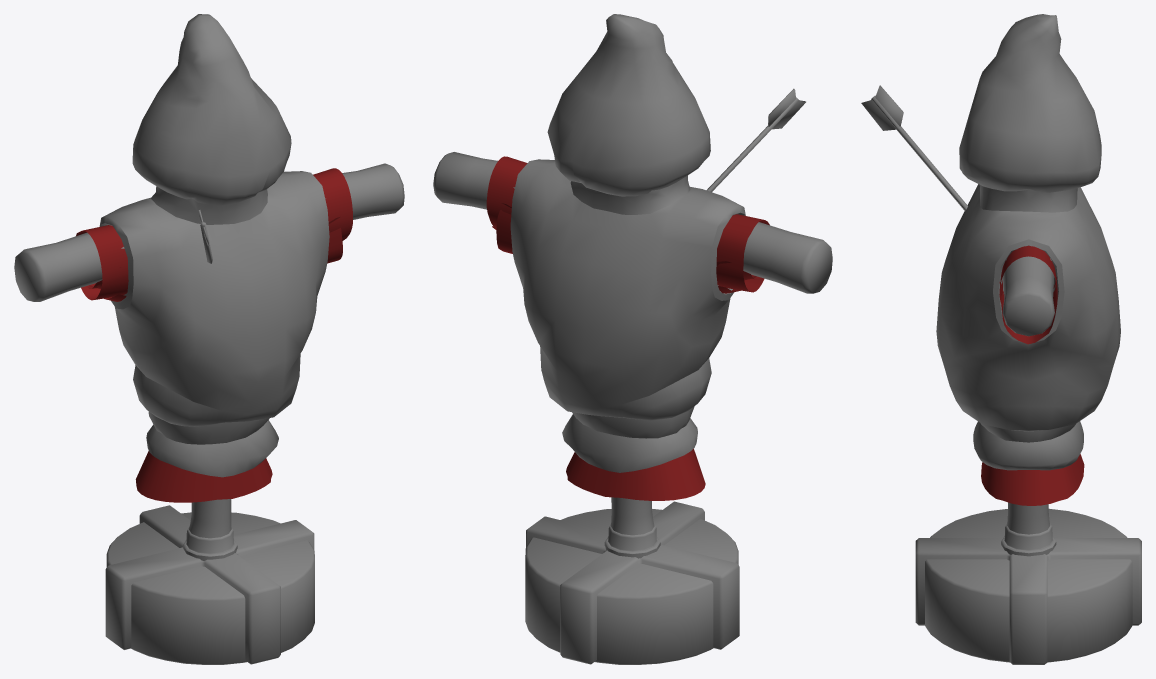
The model's file is Dummy.fbx.
3 renders of one model, left to right at view 1: azimuth 30°, elevation 25°; view 2: azimuth 150°, elevation 25°; view 3: azimuth 270°, elevation 25°, orthographic. The views are drawn at different scales.
Visible parts, largest first — view 1: practice-dummy-6-low, practice-dummy-7-low, practice-dummy-9-low, practice-dummy-alpha-low, practice-dummy-4-low, practice-dummy-8-low; view 2: practice-dummy-6-low, practice-dummy-7-low, practice-dummy-9-low, practice-dummy-alpha-low, practice-dummy-4-low, practice-dummy-8-low, practice-dummy-5-low; view 3: practice-dummy-6-low, practice-dummy-7-low, practice-dummy-9-low, practice-dummy-alpha-low, practice-dummy-4-low, practice-dummy-8-low, practice-dummy-5-low.
Boxes of the visible parts, bbox=[...] form: practice-dummy-6-low: bbox=[99, 14, 329, 477]; practice-dummy-7-low: bbox=[106, 512, 314, 664]; practice-dummy-9-low: bbox=[105, 505, 314, 664]; practice-dummy-alpha-low: bbox=[76, 168, 352, 502]; practice-dummy-4-low: bbox=[14, 163, 404, 301]; practice-dummy-8-low: bbox=[183, 499, 237, 560]; practice-dummy-6-low: bbox=[510, 14, 745, 472]; practice-dummy-7-low: bbox=[525, 509, 738, 664]; practice-dummy-9-low: bbox=[526, 501, 739, 664]; practice-dummy-alpha-low: bbox=[486, 156, 769, 500]; practice-dummy-4-low: bbox=[433, 152, 832, 293]; practice-dummy-8-low: bbox=[604, 497, 660, 558]; practice-dummy-5-low: bbox=[706, 88, 805, 191]; practice-dummy-6-low: bbox=[936, 14, 1120, 470]; practice-dummy-7-low: bbox=[924, 508, 1132, 662]; practice-dummy-9-low: bbox=[915, 538, 1141, 664]; practice-dummy-alpha-low: bbox=[981, 245, 1084, 505]; practice-dummy-4-low: bbox=[1002, 256, 1054, 336]; practice-dummy-8-low: bbox=[1001, 502, 1056, 556]; practice-dummy-5-low: bbox=[861, 85, 967, 210].
Size of the model in its own units: 534 by 829 by 349.
